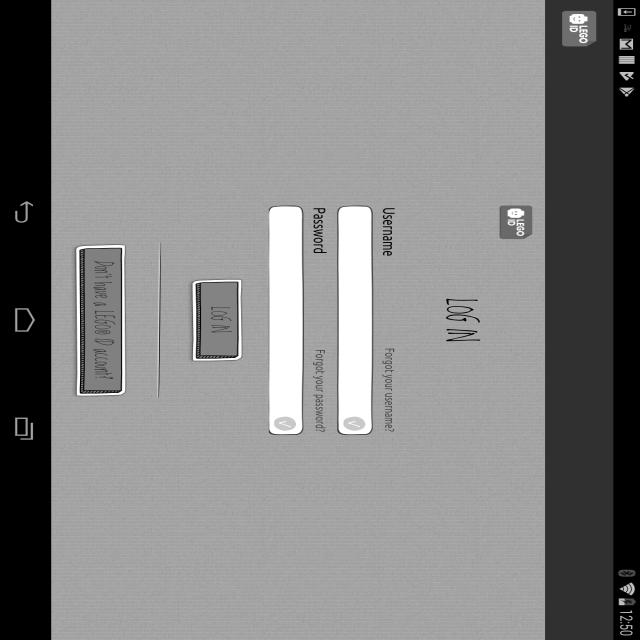Button: (70, 240, 132, 394), (184, 267, 248, 367), (496, 200, 534, 248)
TextView: (436, 287, 503, 350), (306, 195, 327, 266), (384, 198, 402, 274)
